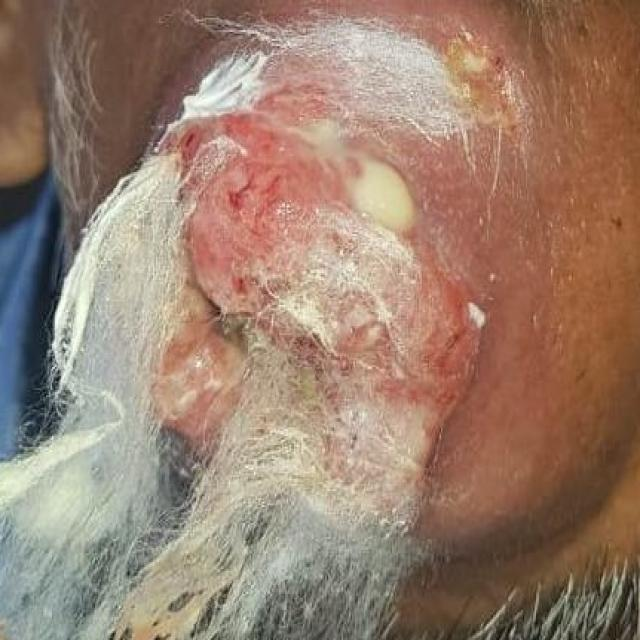Cancer: (178, 130, 483, 479)
